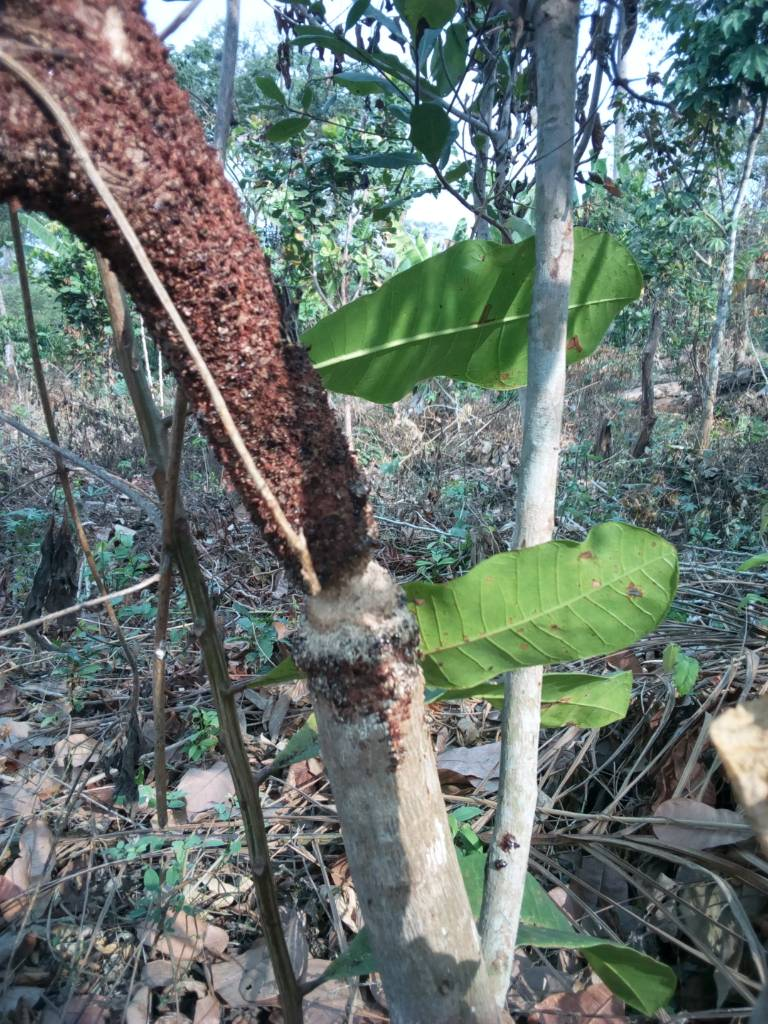Analepse trifasciata: (263, 552, 444, 660)
